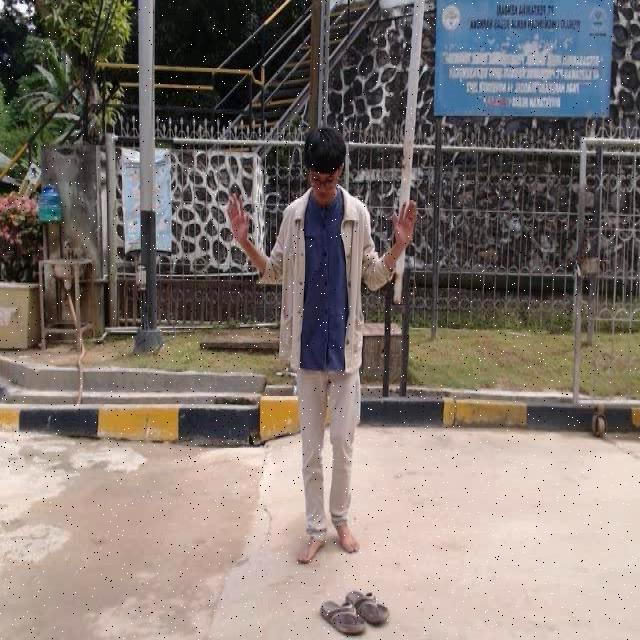Person: (224, 131, 419, 567)
